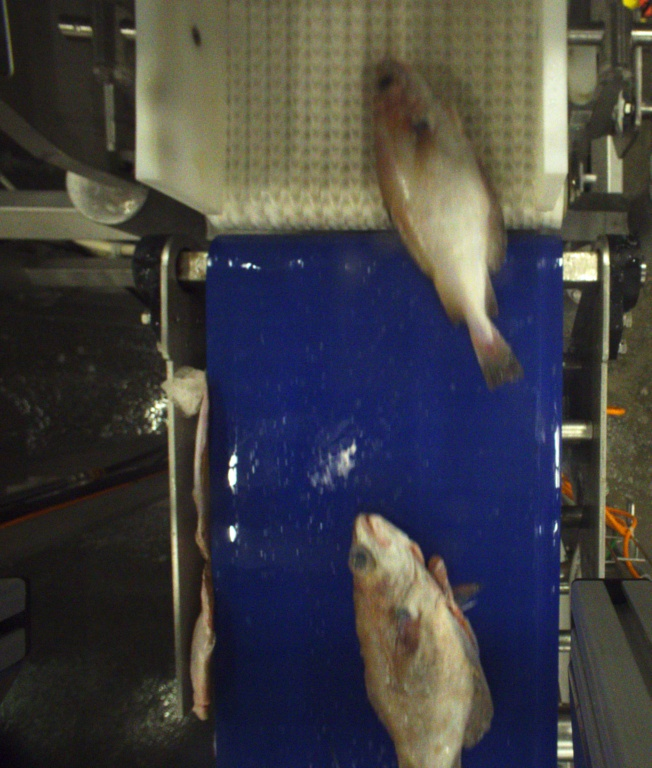BIB: (351, 512, 499, 768)
